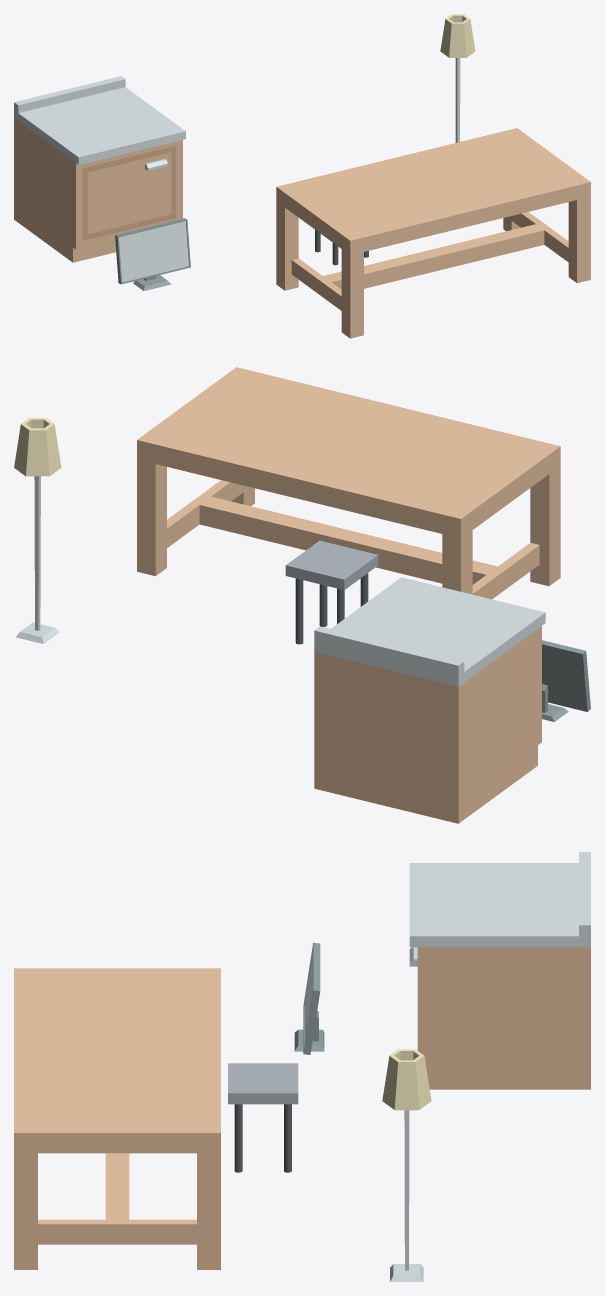
3 views of the same model, one above another, from view 1: azimuth 30°, elevation 25°; view 2: azimuth 150°, elevation 25°; view 3: azimuth 270°, elevation 25° (orthographic). The views are drawn at different scales.
Parts seen in each view (by area): view 1: table_green__table(Clone), cabinet_blue__kitchenCabinet(Clone), cabinet_blue__door, monitor_gray__computerScreen(Clone), lamp_white__lampRoundFloor(Clone); view 2: table_green__table(Clone), cabinet_blue__kitchenCabinet(Clone), lamp_white__lampRoundFloor(Clone), monitor_gray__computerScreen(Clone), stool_purple__stool_purple seat, stool_purple__stool_purple leg.003; view 3: table_green__table(Clone), cabinet_blue__kitchenCabinet(Clone), lamp_white__lampRoundFloor(Clone), stool_purple__stool_purple seat, monitor_gray__computerScreen(Clone), stool_purple__stool_purple leg.002.
Boxes of the visible parts, left/top/right/bottom form: table_green__table(Clone): left=276, top=128, right=590, bottom=338; cabinet_blue__kitchenCabinet(Clone): left=14, top=76, right=185, bottom=262; cabinet_blue__door: left=82, top=146, right=176, bottom=240; monitor_gray__computerScreen(Clone): left=115, top=218, right=190, bottom=290; lamp_white__lampRoundFloor(Clone): left=440, top=14, right=475, bottom=142; table_green__table(Clone): left=137, top=367, right=560, bottom=599; cabinet_blue__kitchenCabinet(Clone): left=314, top=577, right=545, bottom=823; lamp_white__lampRoundFloor(Clone): left=14, top=418, right=61, bottom=643; monitor_gray__computerScreen(Clone): left=542, top=640, right=590, bottom=721; stool_purple__stool_purple seat: left=285, top=540, right=378, bottom=590; stool_purple__stool_purple leg.003: left=295, top=578, right=303, bottom=644; table_green__table(Clone): left=14, top=968, right=220, bottom=1269; cabinet_blue__kitchenCabinet(Clone): left=409, top=852, right=590, bottom=1089; lamp_white__lampRoundFloor(Clone): left=382, top=1049, right=431, bottom=1281; stool_purple__stool_purple seat: left=228, top=1063, right=298, bottom=1104; monitor_gray__computerScreen(Clone): left=294, top=942, right=324, bottom=1054; stool_purple__stool_purple leg.002: left=234, top=1104, right=242, bottom=1172.
Bounding box in the file's own units: 3.14 × 1.2 × 2.86.
